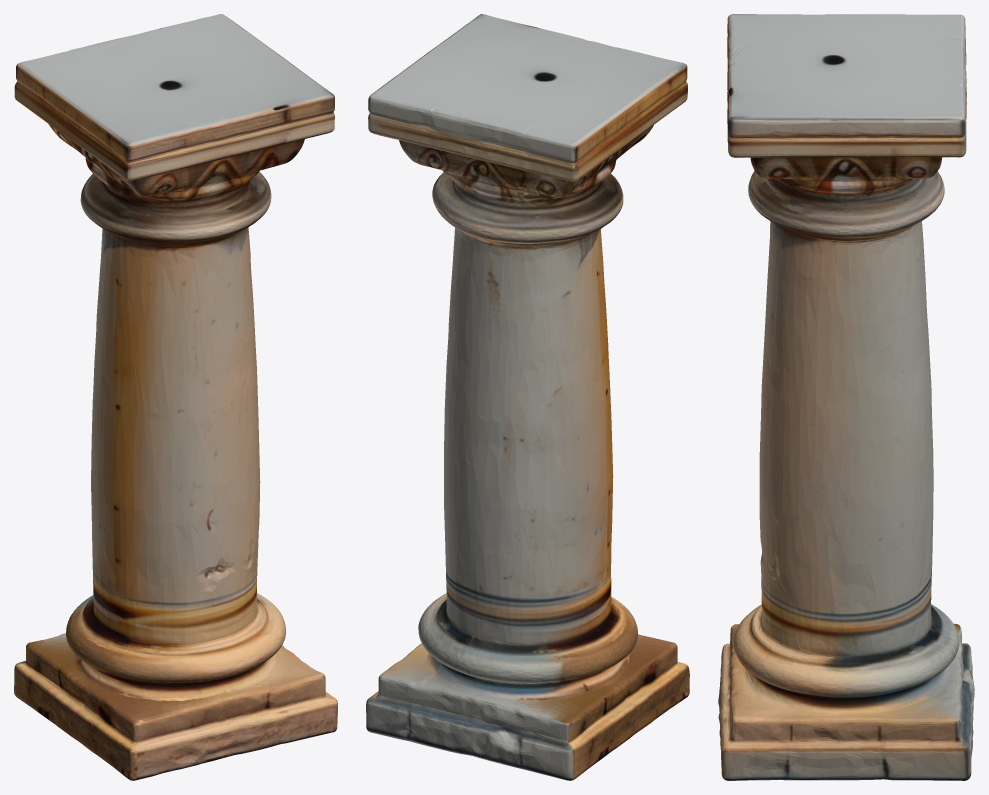
Rendered from yggdrasil-hvergelmir-depth-monolith-left.collider.glb.
The picture shows the model from 3 angles, left to right: view 1: azimuth 30°, elevation 25°; view 2: azimuth 150°, elevation 25°; view 3: azimuth 270°, elevation 25°; orthographic projection. The views are drawn at different scales.
Visible parts, largest first — view 1: temp_mesh.ply; view 2: temp_mesh.ply; view 3: temp_mesh.ply.
Part boxes in pixels (left/top/right/bottom): temp_mesh.ply: left=14, top=14, right=337, bottom=780; temp_mesh.ply: left=366, top=14, right=689, bottom=780; temp_mesh.ply: left=718, top=14, right=974, bottom=780.
Size of the model in its own units: 0.6842 by 1.97 by 0.6912.
1 material, 1 textured.
